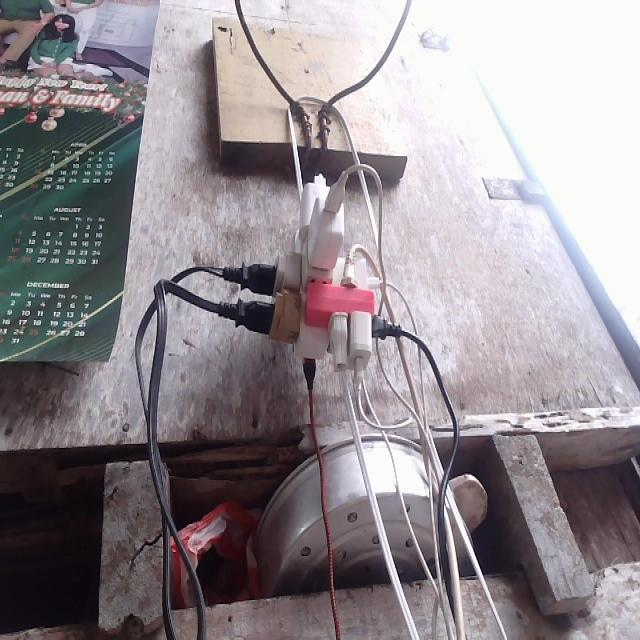-: (210, 167, 403, 388)
